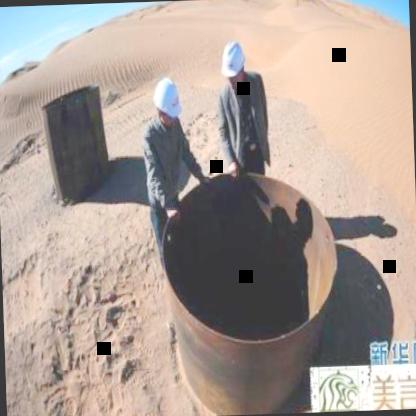helmet: (152, 76, 184, 132), (219, 34, 249, 92)
